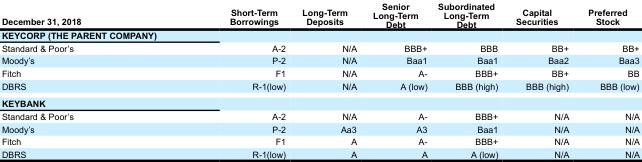table: (0, 1, 639, 158)
table column: (0, 1, 154, 158), (154, 1, 293, 158), (431, 1, 506, 158), (293, 1, 364, 158), (506, 1, 577, 158), (364, 1, 431, 158), (577, 1, 639, 158)
table column header: (0, 1, 639, 29)
table projected row header: (0, 94, 639, 109), (0, 29, 639, 41)
table row: (0, 1, 639, 29), (0, 79, 639, 94), (0, 94, 639, 109), (0, 41, 639, 54), (0, 66, 639, 79), (0, 109, 639, 122), (0, 134, 639, 147), (0, 29, 639, 41), (0, 54, 639, 66), (0, 122, 639, 134), (0, 147, 639, 158)
